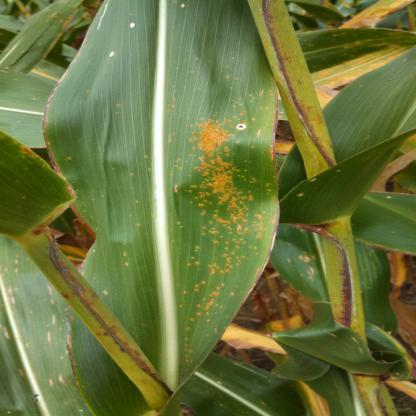corn rust leaf: (46, 3, 292, 409)
